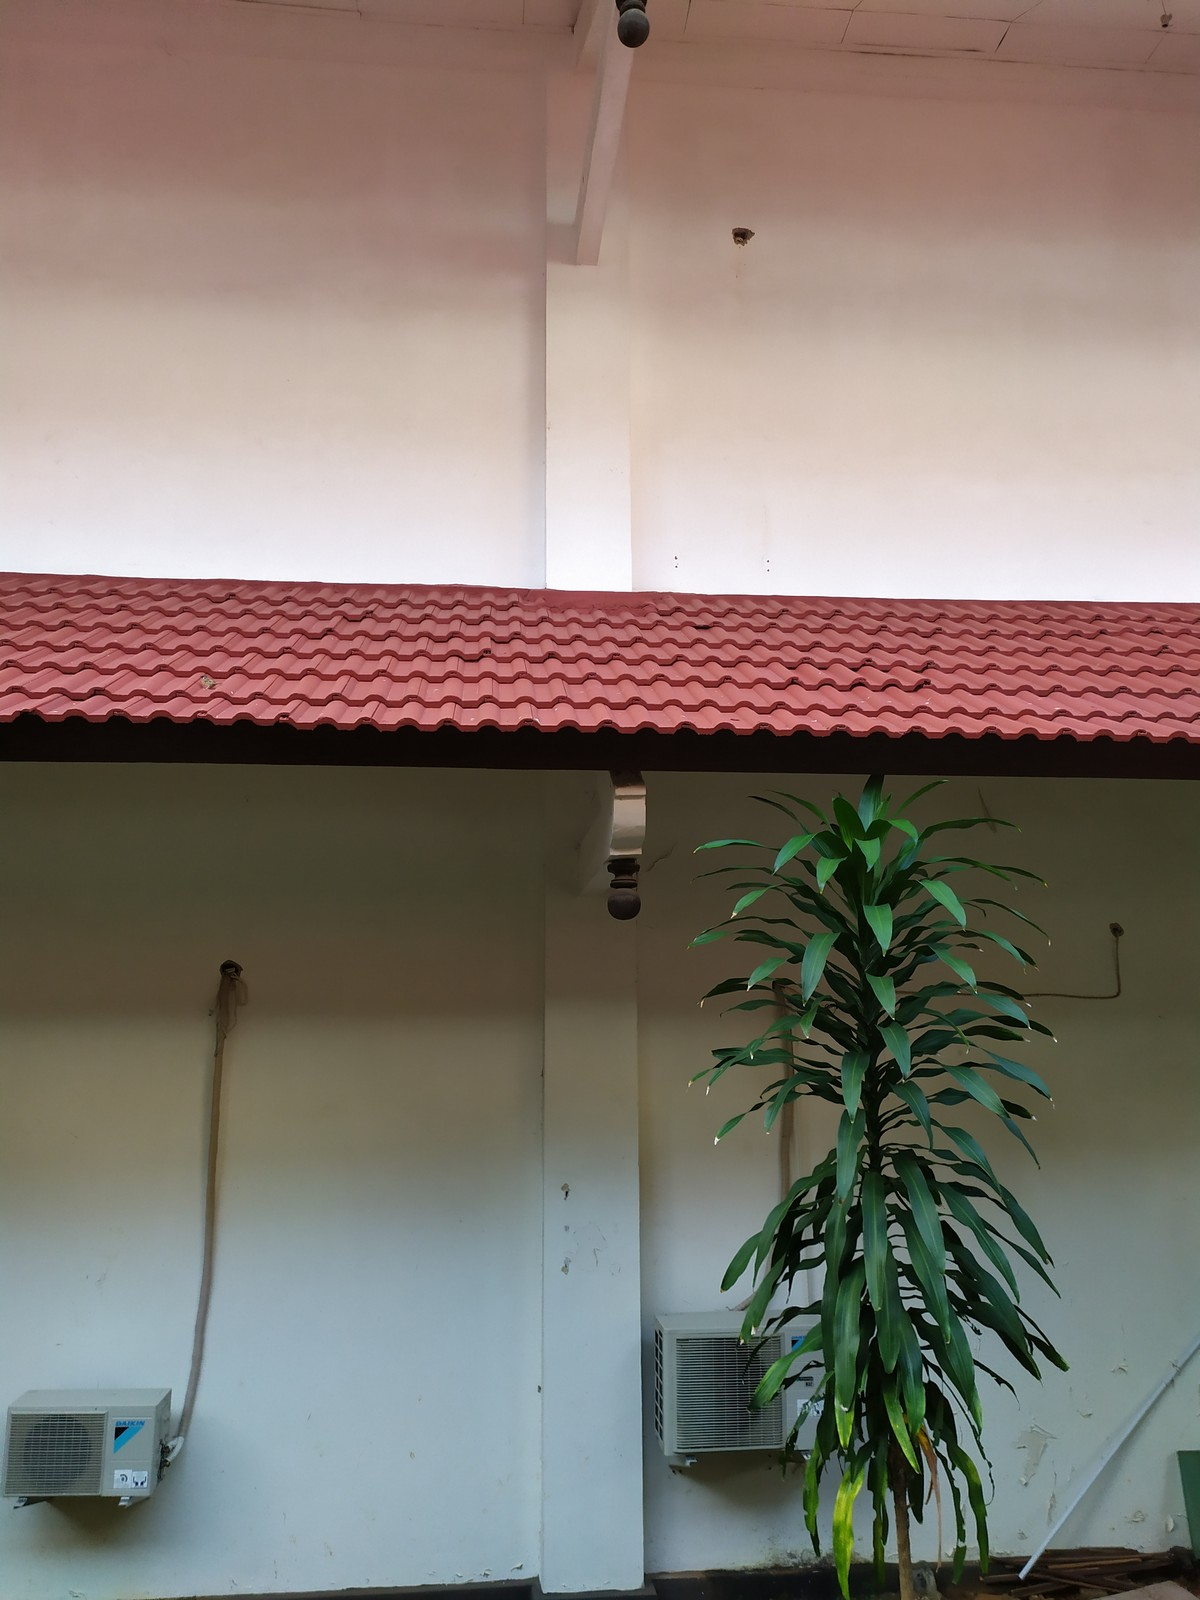concrete column: (529, 787, 666, 1592), (529, 20, 649, 601)
